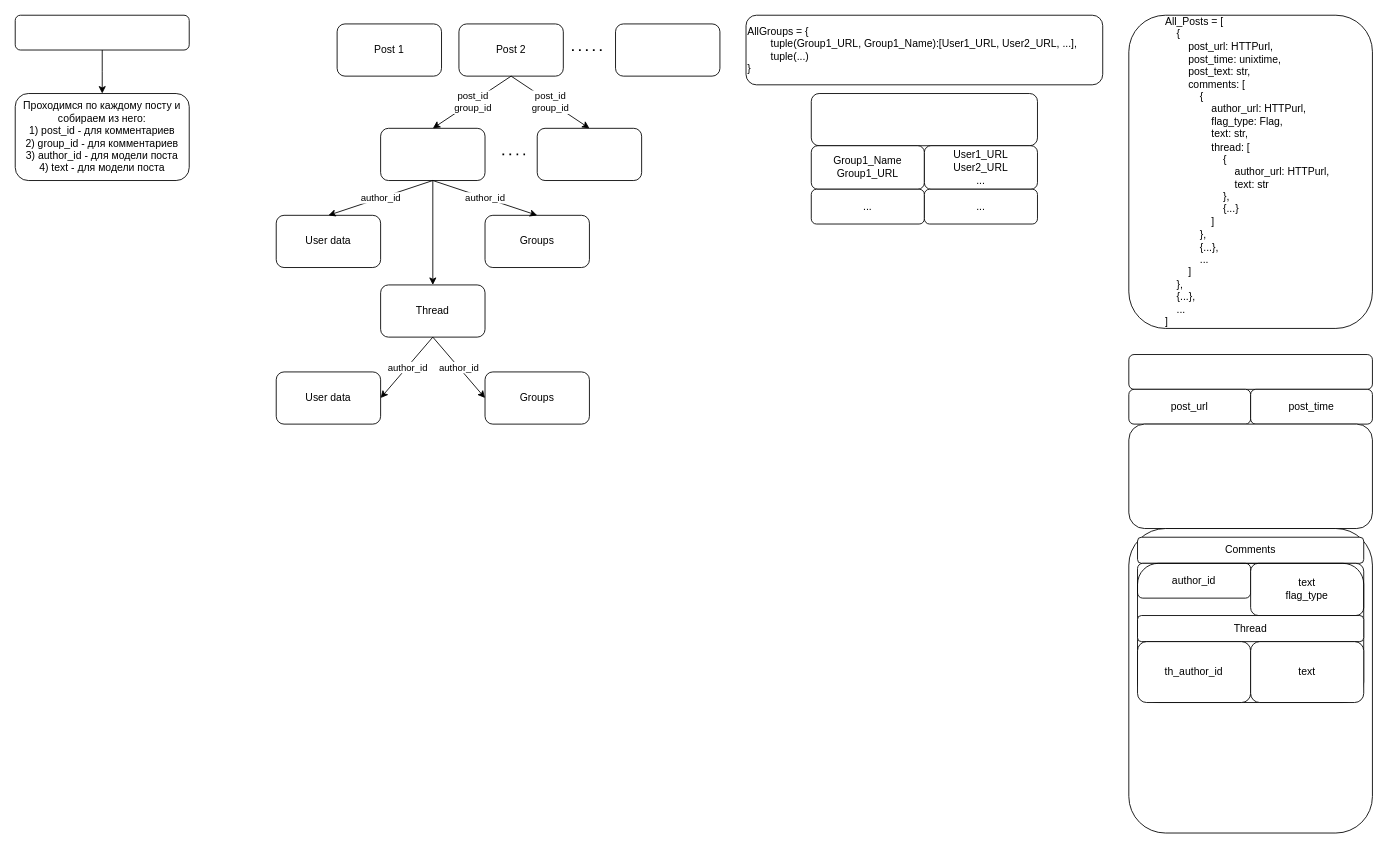
Some shapes in this 1388 by 848 pixel diagram are drawn without their labels. The centre of each missing label's shape, as x and y in pixels:
"All Groups (Sorted by dec)" goes at point 923,119.
"Comment 1" goes at point 432,154.
"Comment N" goes at point 589,154.
"Domain" goes at point 1250,371.
"Post N" goes at point 667,49.
"Post_text" goes at point 1250,476.
"Получаем все посты, прописывая domain группы" goes at point 101,32.
